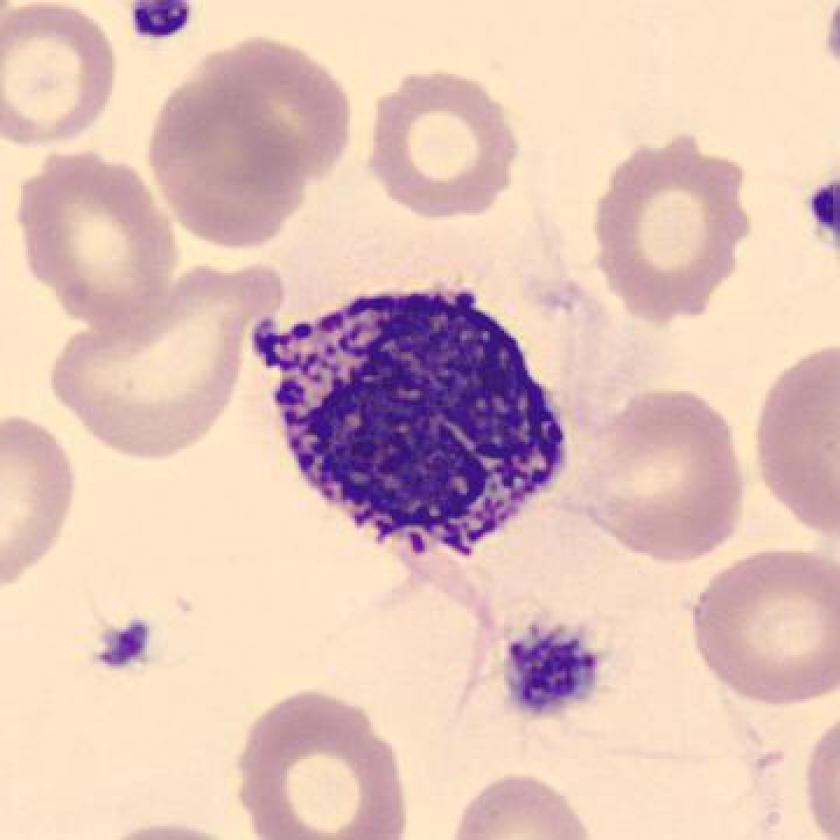basophil: (260, 277, 566, 573)
